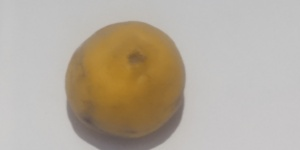BAD: (70, 20, 188, 142)
